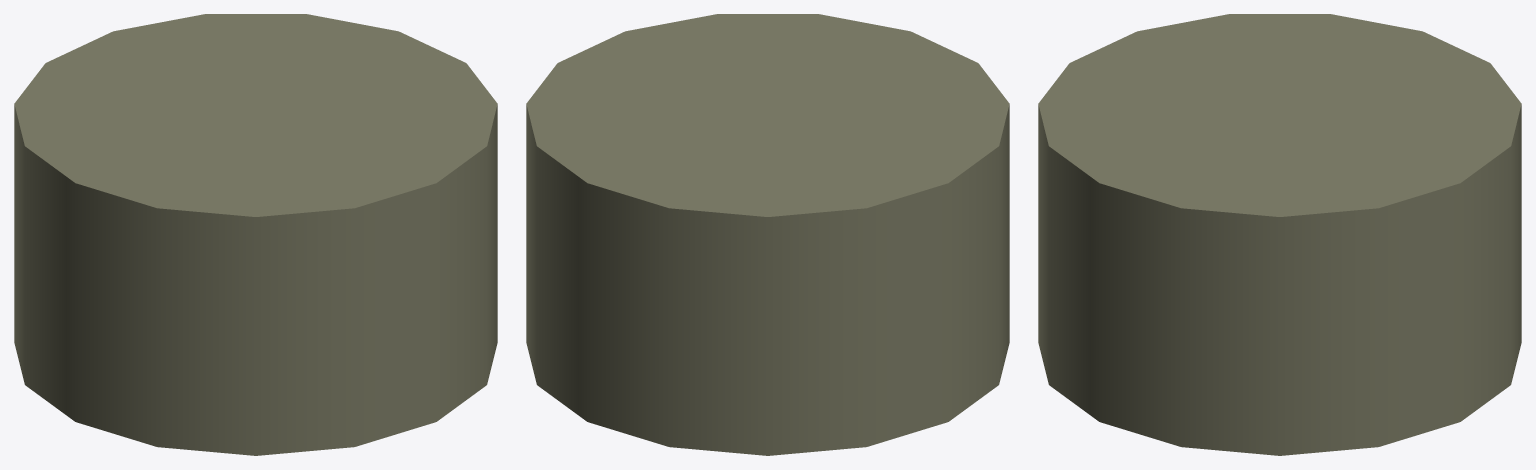
The model's file is cheese.obj.
3 views of the same model, side by side, from view 1: azimuth 30°, elevation 25°; view 2: azimuth 150°, elevation 25°; view 3: azimuth 270°, elevation 25° (orthographic).
Parts seen in each view (by area): view 1: Cheese; view 2: Cheese; view 3: Cheese.
Boxes of the visible parts, left/top/right/bottom form: Cheese: left=14, top=14, right=497, bottom=455; Cheese: left=526, top=14, right=1009, bottom=455; Cheese: left=1038, top=14, right=1521, bottom=455.
Size of the model in its own units: 10.29 by 5.64 by 10.34.
